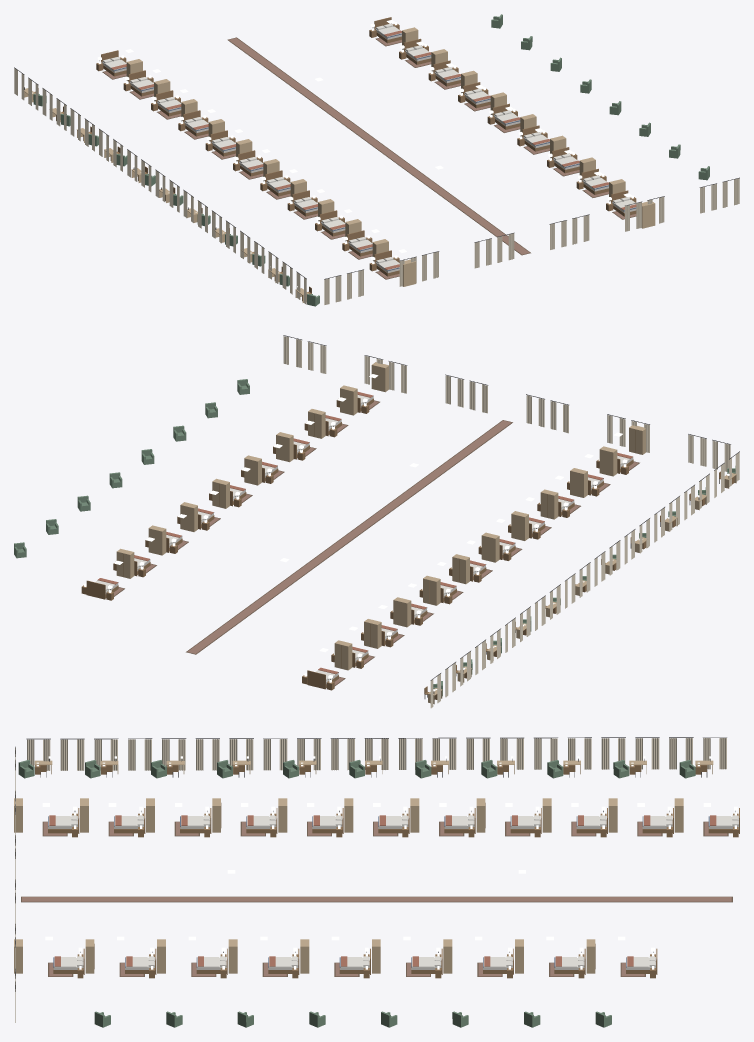
Rendered from fine-s2.glb.
3 views of the same model, one above another, from view 1: azimuth 30°, elevation 25°; view 2: azimuth 150°, elevation 25°; view 3: azimuth 270°, elevation 25° (orthographic). The views are drawn at different scales.
Parts seen in each view (by area): view 1: soft-s2; view 2: soft-s2; view 3: soft-s2.
Boxes of the visible parts, <box> form: soft-s2: <box>14,23,739,304</box>; soft-s2: <box>95,335,739,708</box>; soft-s2: <box>15,737,737,1022</box>.
Size of the model in its own units: 41.13 by 2.41 by 48.86.
